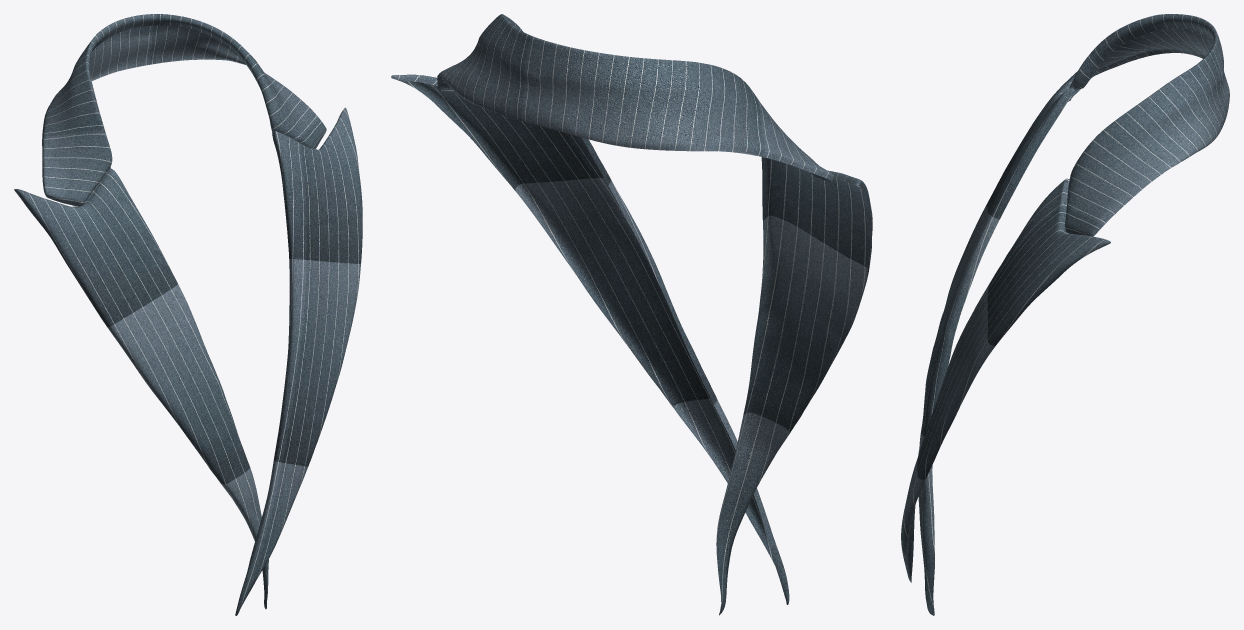
File: peak_lapel.glb
3 renders of one model, left to right at view 1: azimuth 30°, elevation 25°; view 2: azimuth 150°, elevation 25°; view 3: azimuth 270°, elevation 25°, orthographic. The views are drawn at different scales.
Parts seen in each view (by area): view 1: lapel_front, lapel_back; view 2: lapel_front, lapel_back; view 3: lapel_front, lapel_back.
Boxes of the visible parts, x1,y1,x2,y2 form: lapel_front: [14, 107, 362, 615]; lapel_back: [42, 14, 326, 206]; lapel_front: [391, 74, 872, 615]; lapel_back: [437, 14, 834, 182]; lapel_front: [901, 71, 1110, 615]; lapel_back: [1065, 14, 1229, 236].
Size of the model in its own units: 29.83 by 43.04 by 22.4.
1 material, 1 textured.
